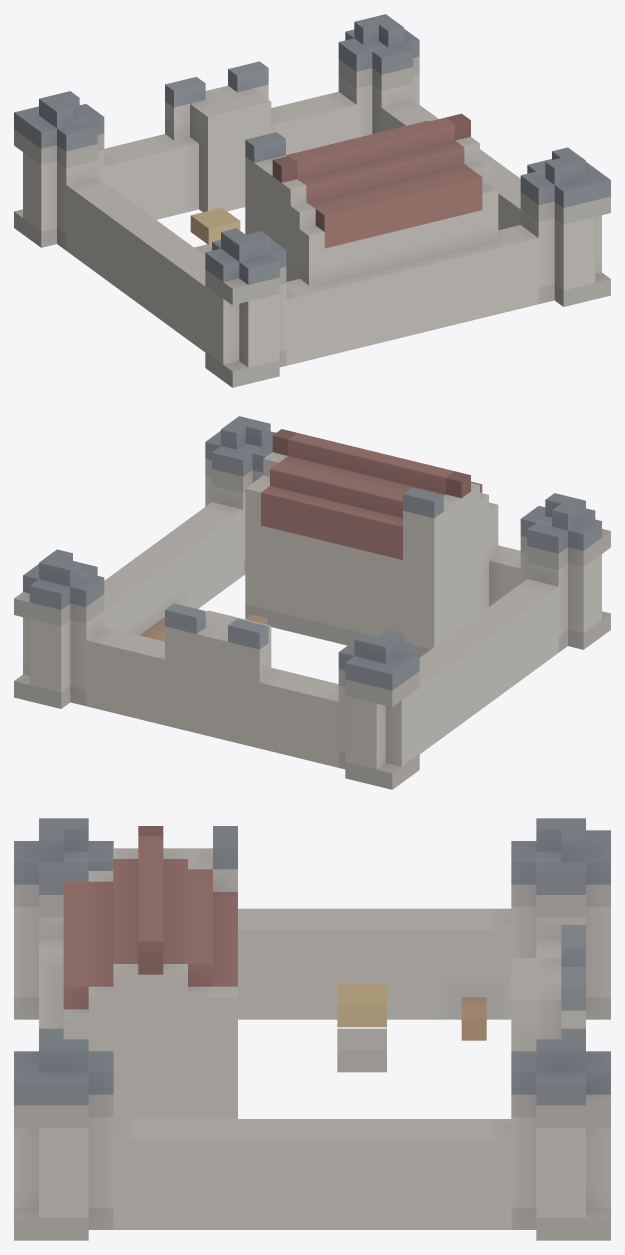
File: castle.lite.glb
3 views of the same model, one above another, from view 1: azimuth 30°, elevation 25°; view 2: azimuth 150°, elevation 25°; view 3: azimuth 270°, elevation 25° (orthographic). The views are drawn at different scales.
Visible parts, largest first — view 1: castle; view 2: castle; view 3: castle.
Boxes of the visible parts, x1,y1,x2,y2 form: castle: [14, 14, 610, 387]; castle: [14, 416, 610, 789]; castle: [14, 818, 610, 1240].
Size of the model in its own units: 12 by 5 by 12.
